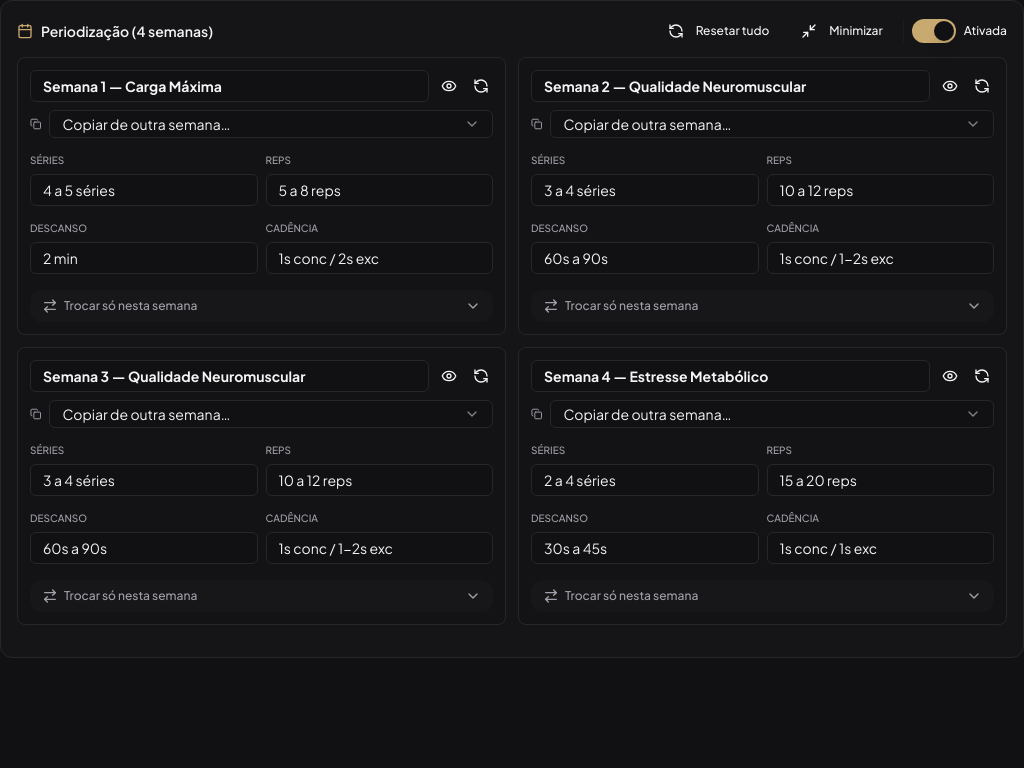
Test: WorkoutPeriodizationEditor — rascunho único + salvar por semana › duas edições em exercícios diferentes sobrevivem a um único Salvar (corrige a corrida de estado)
Later steps or results of the test are not shown.
Step 1. Click the 1st button "Trocar só nesta semana" → (131, 306), box [30,290,493,322]
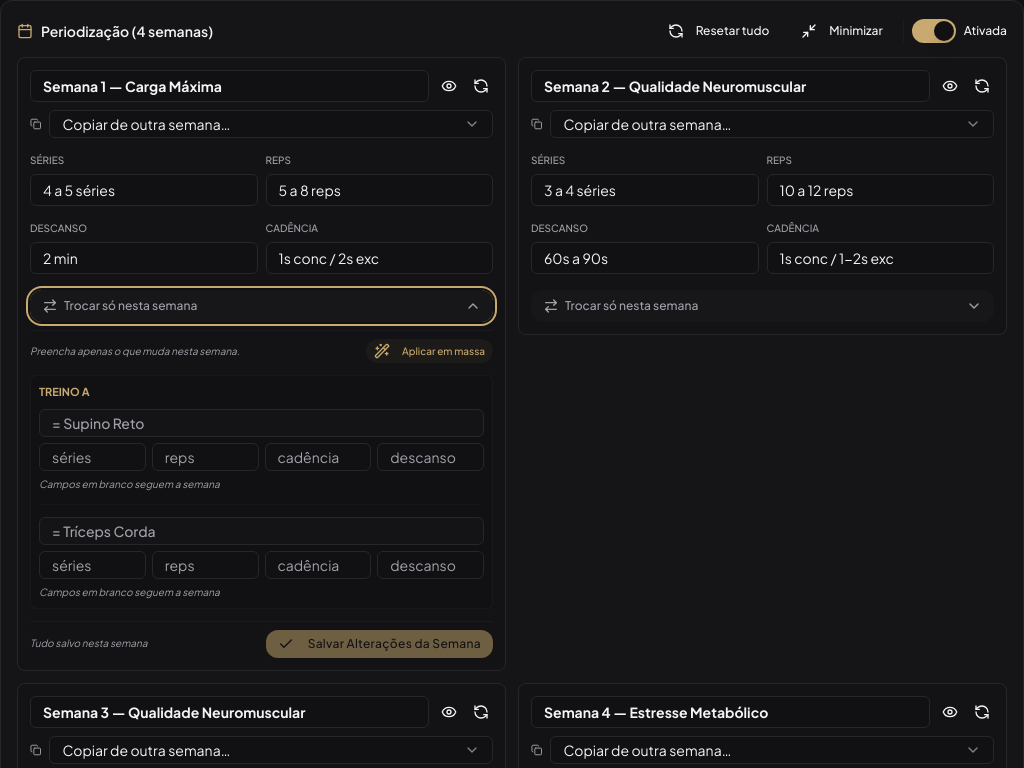
Expected: the number of fields with placeholder "reps" is 2
Step 2. Type "12" into the 1st field with placeholder "reps" → (205, 456), box [152,442,259,470]
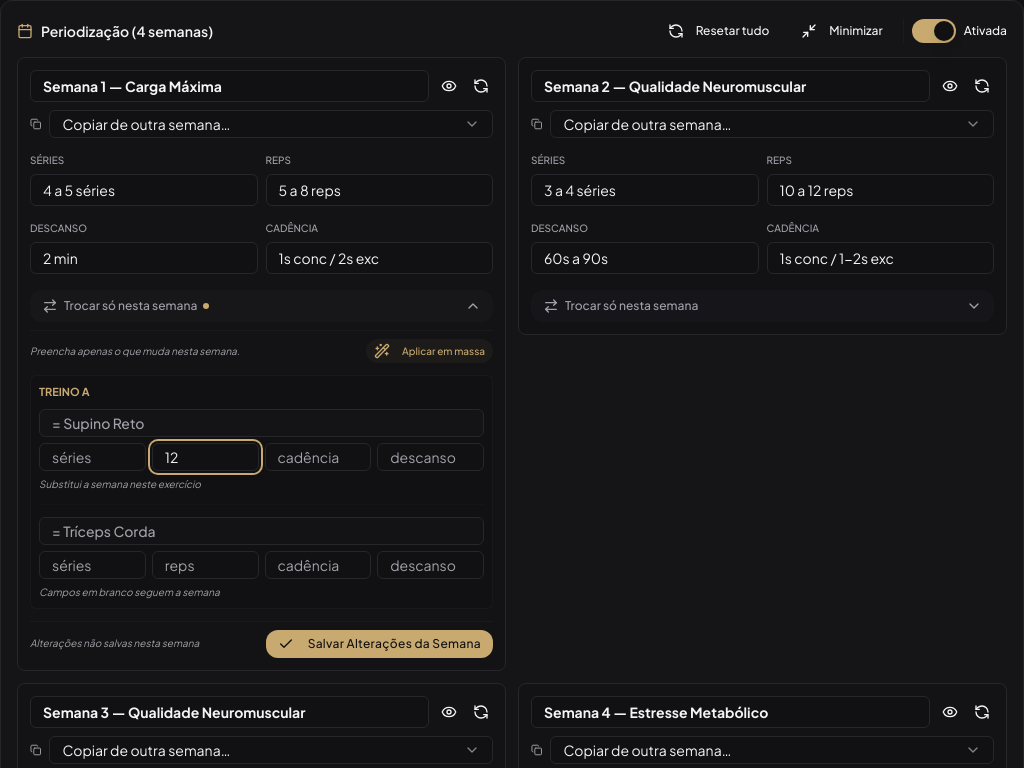
Step 3. Type "90s" into the 2nd field with placeholder "descanso" → (431, 564), box [377,550,484,578]
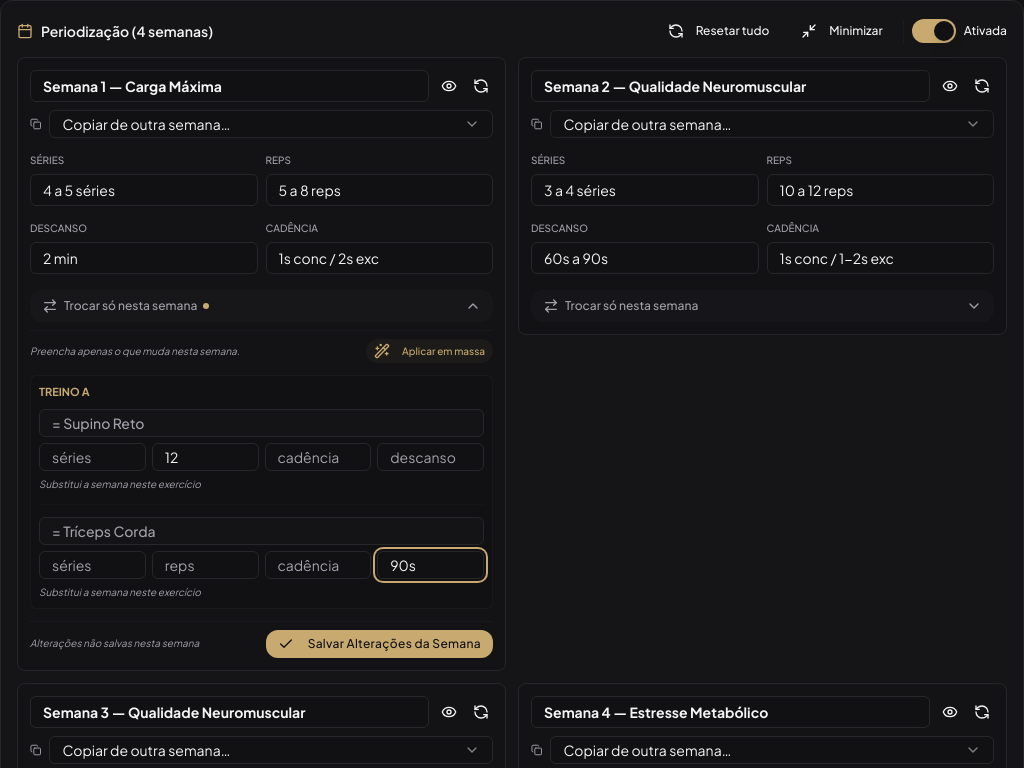
Expected: the button "Salvar Alterações da Semana" is enabled, [266,630,493,658]
